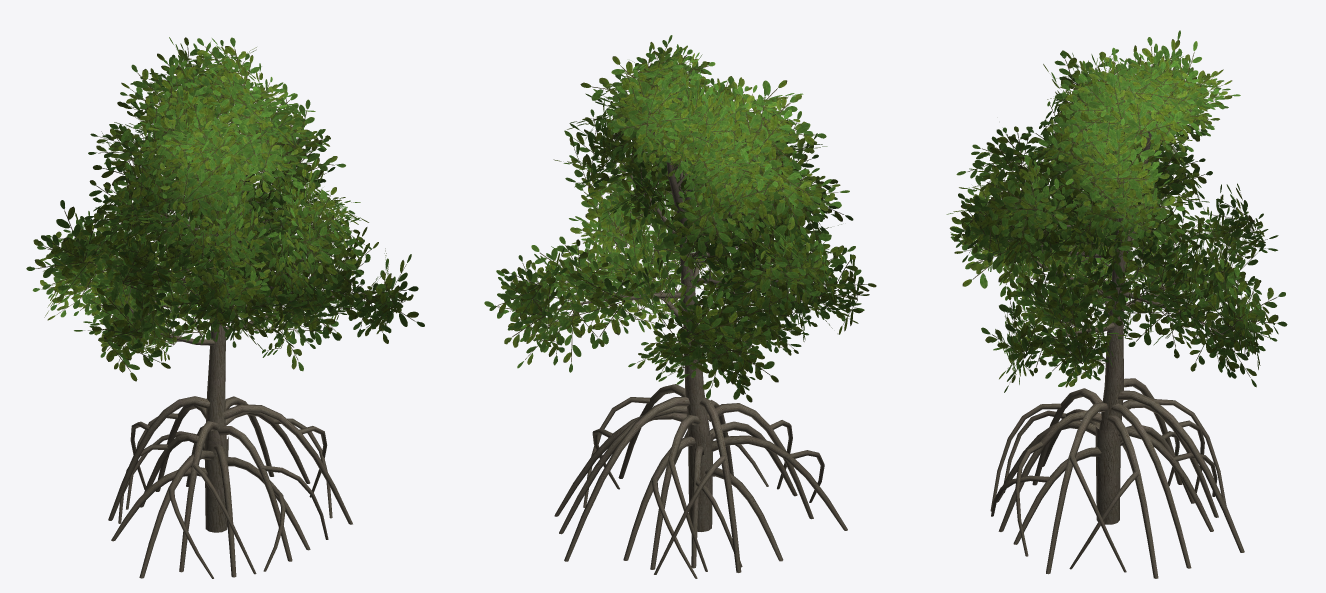
The model's file is tree_mangrove.glb.
3 renders of one model, left to right at view 1: azimuth 30°, elevation 25°; view 2: azimuth 150°, elevation 25°; view 3: azimuth 270°, elevation 25°, orthographic. The views are drawn at different scales.
Visible parts, largest first — view 1: plant; view 2: plant; view 3: plant.
Part boxes in pixels (box(x1,y1,x2,y2)): plant: box(26, 37, 424, 578); plant: box(484, 35, 876, 578); plant: box(946, 30, 1287, 578).
Bounding box in the file's own units: 7.4 × 9.35 × 6.7.
Materials: 2 (2 with a texture image).
